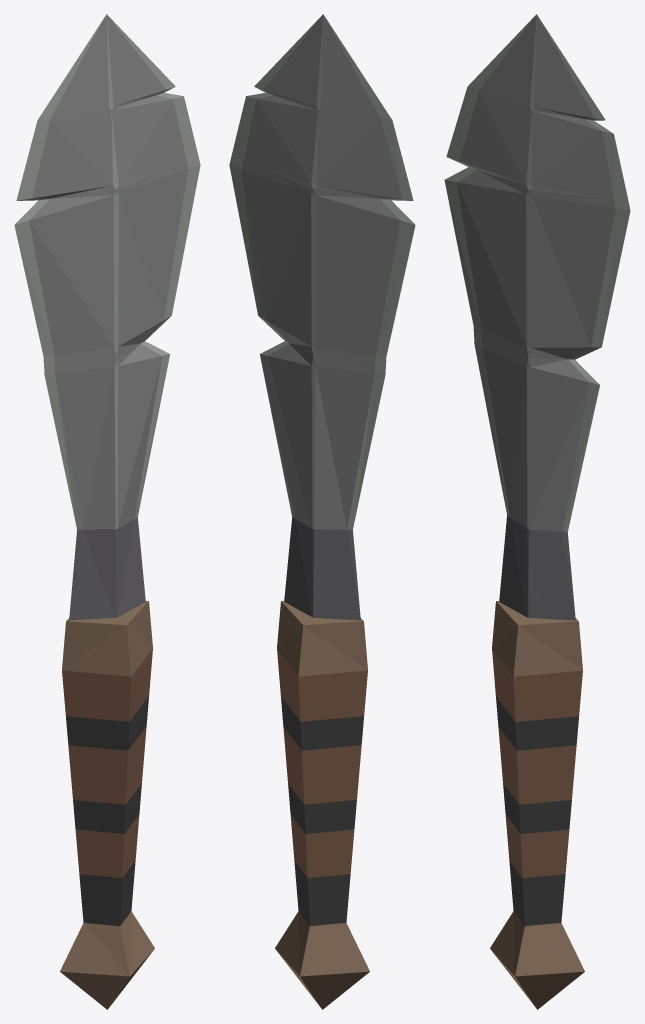
The model's file is Dagger_1.fbx.
3 views of the same model, side by side, from view 1: azimuth 30°, elevation 25°; view 2: azimuth 150°, elevation 25°; view 3: azimuth 330°, elevation 25° (orthographic).
Visible parts, largest first — view 1: polySurface205; view 2: polySurface205; view 3: polySurface205.
Part boxes in pixels (x1=…): polySurface205: x1=14, y1=14, x2=200, y2=1009; polySurface205: x1=229, y1=14, x2=415, y2=1009; polySurface205: x1=444, y1=14, x2=630, y2=1009.
Bounding box in the file's own units: 27.18 × 139 × 12.15.
